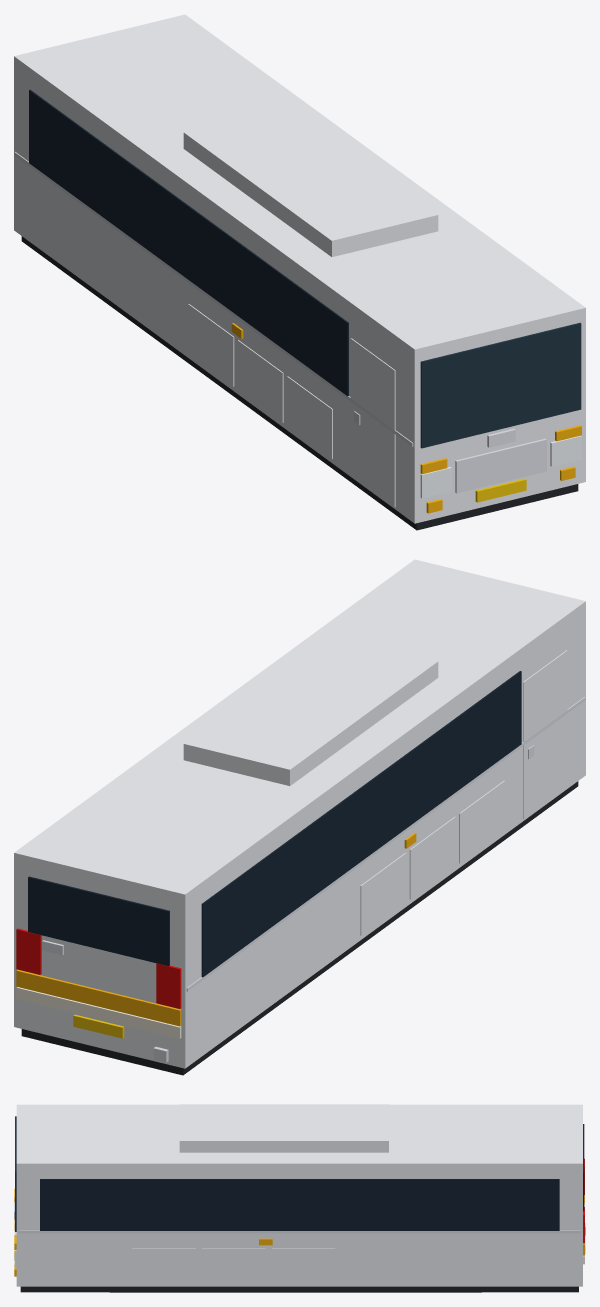
The model's file is HINO_RM2.fbx.
3 renders of one model, top to bottom at view 1: azimuth 30°, elevation 25°; view 2: azimuth 150°, elevation 25°; view 3: azimuth 270°, elevation 25°, orthographic. The views are drawn at different scales.
Parts seen in each view (by area): view 1: main body, side glass left, ac, front glass, box door, base, grill, box locker.001, box locker.003, box locker.005, aluminium, headlight (+2 smaller); view 2: main body, side glass left, ac, rear glass, box door, base, back light.003, box locker.001, box locker.003, box locker.005, back light.002, aluminium (+3 smaller); view 3: main body, side glass right, ac, base, box locker.002, box locker.004, box locker.006, aluminium, suspetion.
Part boxes in pixels (<box>): main body: <box>14,14,585,523</box>; side glass left: <box>29,89,348,396</box>; ac: <box>183,106,438,256</box>; front glass: <box>420,322,581,448</box>; box door: <box>350,338,395,507</box>; base: <box>21,236,578,530</box>; grill: <box>455,438,546,493</box>; box locker.001: <box>188,304,234,386</box>; box locker.003: <box>237,340,283,422</box>; box locker.005: <box>287,376,332,458</box>; aluminium: <box>14,152,413,446</box>; headlight: <box>420,467,451,498</box>; main body: <box>14,559,585,1068</box>; side glass left: <box>201,671,521,977</box>; ac: <box>183,635,438,785</box>; rear glass: <box>28,876,169,966</box>; box door: <box>523,650,567,819</box>; base: <box>21,781,578,1075</box>; back light.003: <box>16,970,181,1026</box>; box locker.001: <box>360,853,406,935</box>; box locker.003: <box>409,817,455,899</box>; box locker.005: <box>459,780,504,863</box>; back light.002: <box>16,987,181,1038</box>; aluminium: <box>186,697,585,991</box>; main body: <box>16,1104,582,1286</box>; side glass right: <box>40,1179,559,1230</box>; ac: <box>179,1104,388,1152</box>; base: <box>20,1286,578,1292</box>; box locker.002: <box>272,1248,335,1283</box>; box locker.004: <box>202,1248,265,1283</box>; box locker.006: <box>132,1248,195,1283</box>; aluminium: <box>18,1230,580,1233</box>; suspetion: <box>110,1292,481,1292</box>.
Size of the model in its own units: 3.68 by 4.16 by 14.75.
